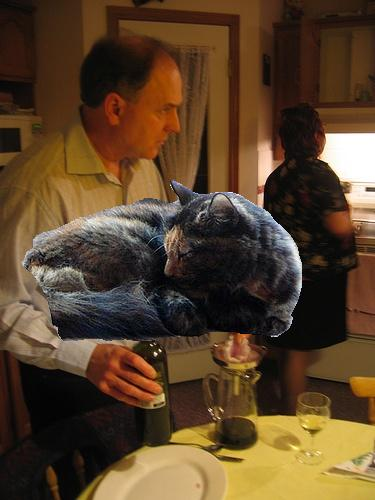tampered: (22, 181, 302, 341)
